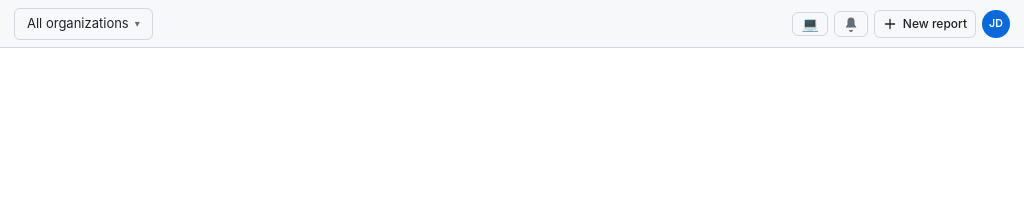
Test: TopBar › does not show role in menu when user has no roles
Click the button with aria-label "User menu": (996, 24) [982,10,1010,38]
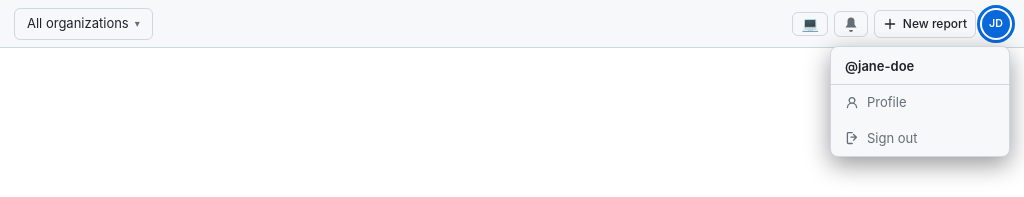
Result: the text "@jane-doe" is shown at [845,58,914,74]
